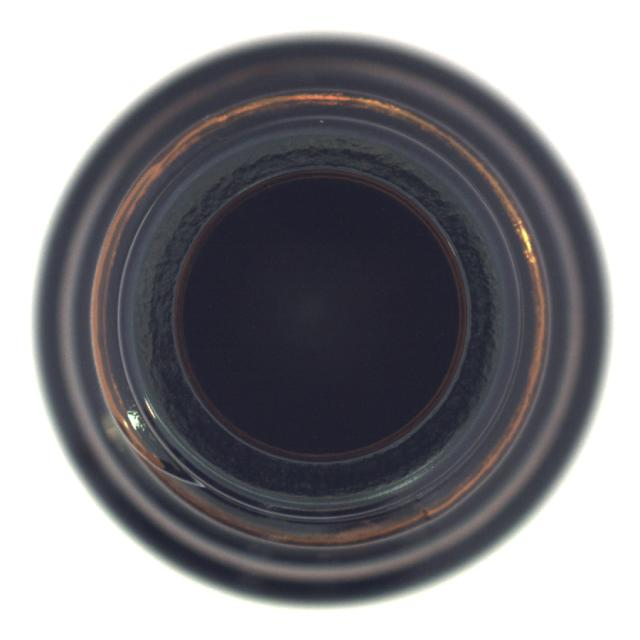bottle-good: (32, 33, 600, 603)
